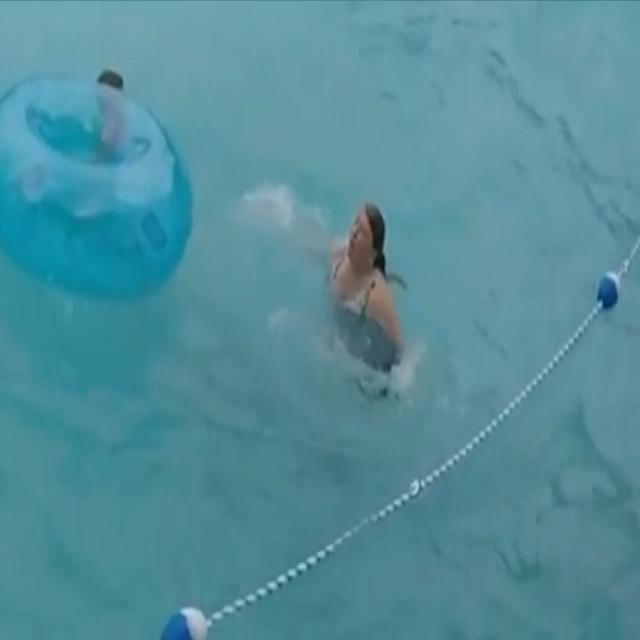drowning: (264, 159, 436, 413)
